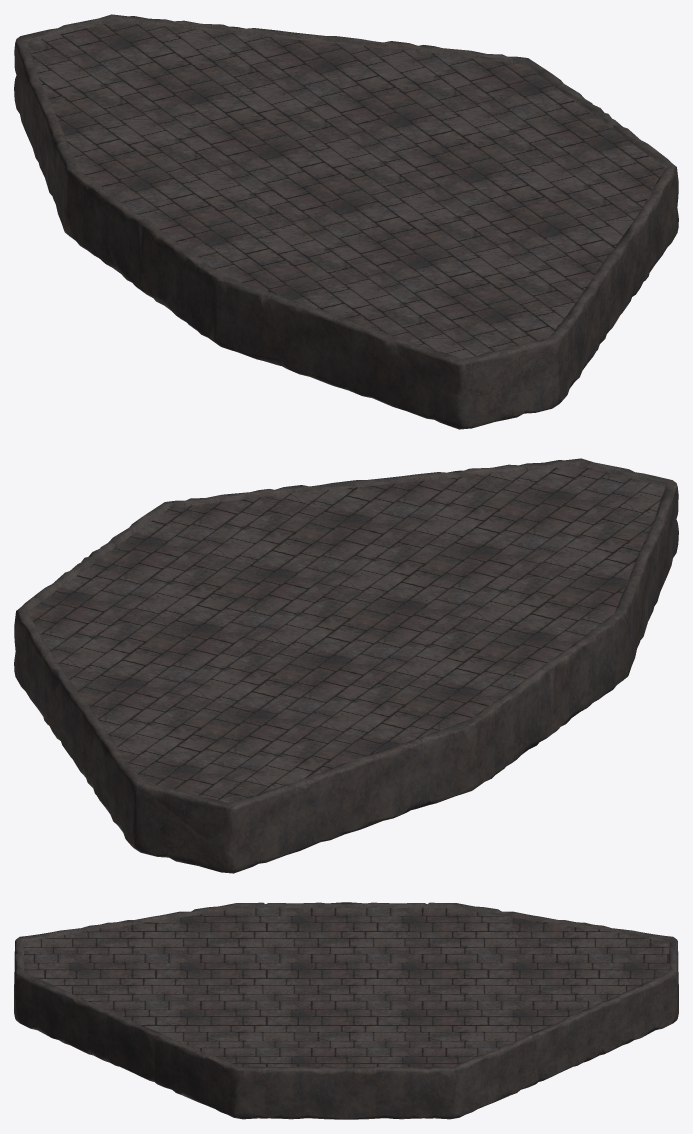
Rendered from SM_EntranceFloor.fbx.
3 views of the same model, one above another, from view 1: azimuth 30°, elevation 25°; view 2: azimuth 150°, elevation 25°; view 3: azimuth 270°, elevation 25° (orthographic). The views are drawn at different scales.
Parts seen in each view (by area): view 1: SM_EntranceFloor_LOD0; view 2: SM_EntranceFloor_LOD0; view 3: SM_EntranceFloor_LOD0.
Boxes of the visible parts, x1,y1,x2,y2 form: SM_EntranceFloor_LOD0: (14,14,678,429); SM_EntranceFloor_LOD0: (14,458,678,873); SM_EntranceFloor_LOD0: (14,902,678,1119).
Bounding box in the file's own units: 718 × 1200 × 100.
Materials: 3 (3 with a texture image).
